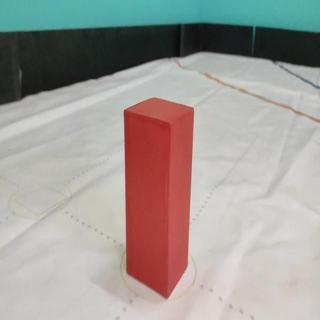redbox: (123, 96, 196, 299)
